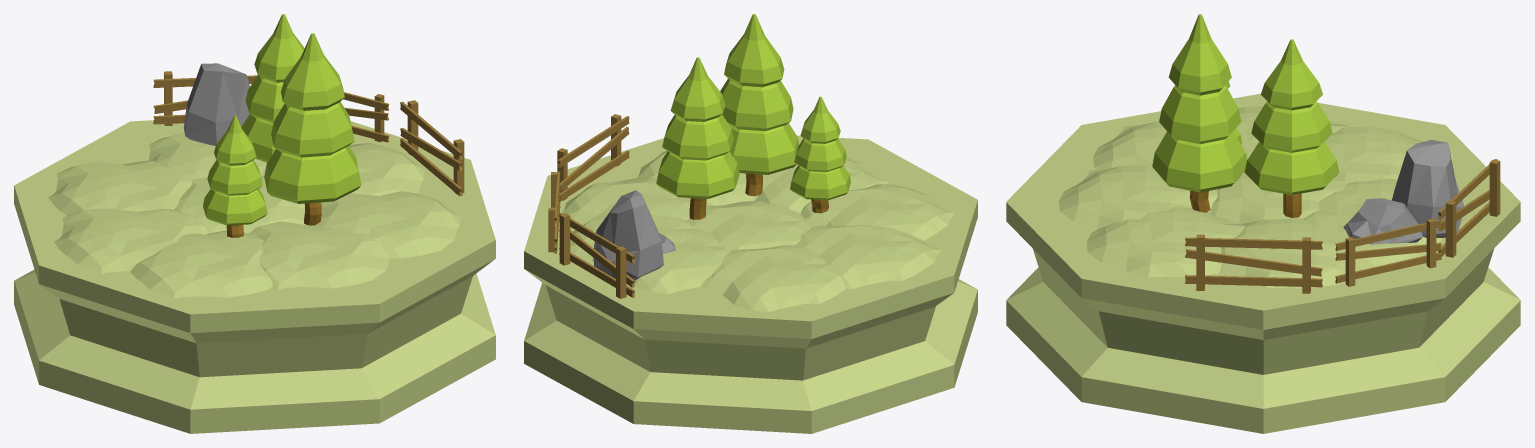
File: LowPolyScene_RCED.dae
3 views of the same model, side by side, from view 1: azimuth 30°, elevation 25°; view 2: azimuth 150°, elevation 25°; view 3: azimuth 270°, elevation 25° (orthographic). The views are drawn at different scales.
Parts seen in each view (by area): view 1: Cylinder, Cone, Plane_002, Plane_006, Plane_004, Plane_007, Plane_003, Sphere, Plane_008, Cube_002, Plane_005, Plane_009 (+3 smaller); view 2: Cylinder, Cone, Plane_003, Plane_004, Plane_006, Plane_005, Sphere, Plane_009, Plane_008, Cube, Cube_002, Plane_002 (+4 smaller); view 3: Cylinder, Cone, Plane_007, Plane_002, Plane_008, Cube_002, Sphere, Plane_003, Plane_005, Cube_001, Cube, Plane_006 (+5 smaller).
Boxes of the visible parts, x1,y1,x2,y2 form: Cylinder: (14, 120, 495, 433); Cone: (203, 14, 361, 225); Plane_002: (249, 221, 389, 289); Plane_006: (130, 230, 272, 298); Plane_004: (54, 208, 210, 273); Plane_007: (305, 191, 460, 258); Plane_003: (48, 160, 193, 215); Sphere: (183, 63, 249, 145); Plane_008: (349, 143, 424, 195); Cube_002: (400, 100, 464, 196); Plane_005: (175, 176, 305, 233); Plane_009: (148, 133, 263, 178); Cylinder: (524, 135, 977, 433); Cone: (656, 14, 850, 200); Plane_003: (700, 245, 845, 311); Plane_004: (795, 224, 941, 289); Plane_006: (800, 184, 955, 240); Plane_005: (686, 201, 815, 250); Sphere: (593, 190, 663, 280); Plane_009: (634, 228, 730, 293); Plane_008: (562, 178, 715, 224); Cube: (559, 213, 634, 298); Cube_002: (557, 114, 629, 201); Plane_002: (753, 158, 888, 213); Cylinder: (1006, 93, 1520, 433); Cone: (1152, 14, 1339, 194); Plane_007: (1086, 206, 1245, 277); Plane_002: (1059, 165, 1217, 229); Plane_008: (1220, 217, 1357, 288); Cube_002: (1185, 234, 1322, 293); Sphere: (1392, 139, 1464, 237); Plane_003: (1324, 126, 1452, 182); Plane_005: (1210, 171, 1348, 223); Cube_001: (1335, 218, 1441, 286); Cube: (1438, 159, 1500, 257); Plane_006: (1093, 121, 1166, 170).
Size of the model in its own units: 21.43 by 21.43 by 14.9.
